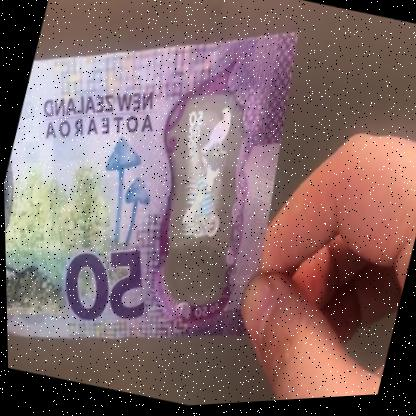50B: (147, 94, 271, 287)
